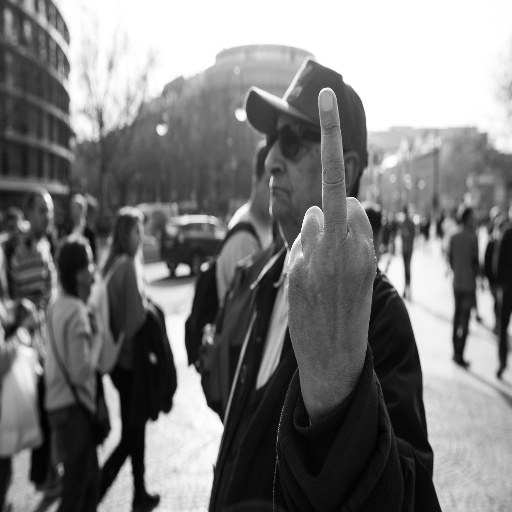hand: (285, 84, 377, 397)
